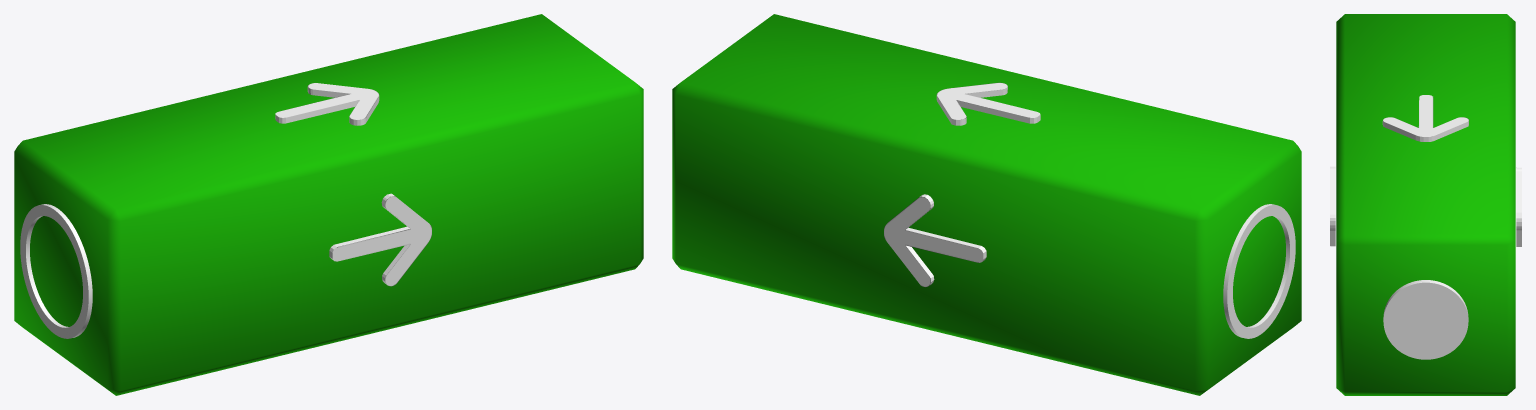
File: BigBoxTapFlowBox_1_1_3__Clean_test.fbx
3 views of the same model, side by side, from view 1: azimuth 30°, elevation 25°; view 2: azimuth 150°, elevation 25°; view 3: azimuth 270°, elevation 25° (orthographic). The views are drawn at different scales.
Parts seen in each view (by area): view 1: BigBoxTapFlowBox_1_1_3__Clean_test; view 2: BigBoxTapFlowBox_1_1_3__Clean_test; view 3: BigBoxTapFlowBox_1_1_3__Clean_test.
Boxes of the visible parts, x1,y1,x2,y2 form: BigBoxTapFlowBox_1_1_3__Clean_test: (14, 14, 643, 395); BigBoxTapFlowBox_1_1_3__Clean_test: (672, 14, 1301, 395); BigBoxTapFlowBox_1_1_3__Clean_test: (1330, 14, 1521, 395).
Size of the model in its own units: 3.22 by 1.14 by 1.12.
Materials: 1 (1 with a texture image).
